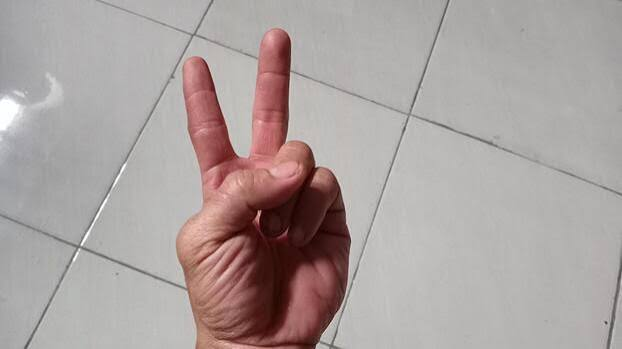peace_sign: (159, 20, 365, 340)
